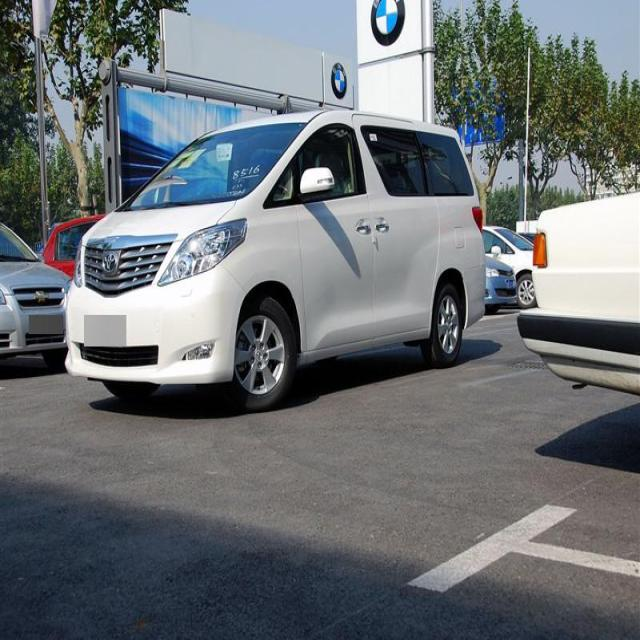back_left_side_light: (464, 198, 491, 250)
door: (360, 122, 442, 335)
front_bumper: (64, 291, 238, 387)
front_glass: (104, 112, 306, 211)
front_left_side_door: (285, 107, 387, 351)
front_left_side_light: (156, 215, 249, 288)
front_left_side_mirror: (296, 165, 336, 195)
wheel: (225, 299, 298, 411), (422, 281, 466, 367)
